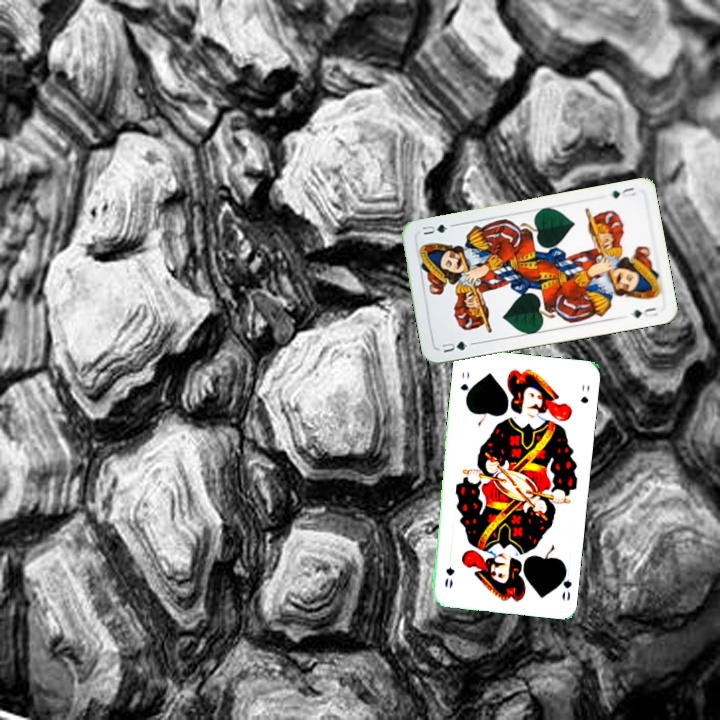GO: (554, 563, 574, 603), (456, 367, 473, 404)
GU: (438, 337, 476, 355), (607, 183, 638, 201)
